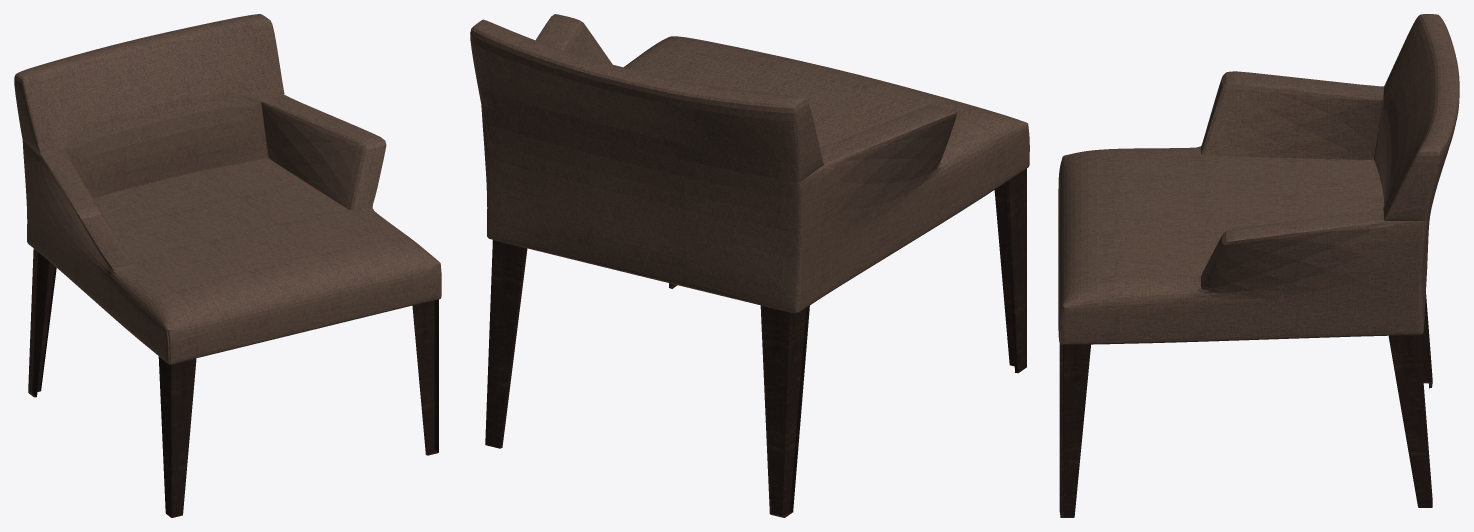
The model's file is sh-bs0-chair.glb.
3 views of the same model, side by side, from view 1: azimuth 30°, elevation 25°; view 2: azimuth 150°, elevation 25°; view 3: azimuth 270°, elevation 25° (orthographic). The views are drawn at different scales.
Visible parts, largest first — view 1: obj_44.001_Untitled.001, obj_47.001_Untitled.004; view 2: obj_44.001_Untitled.001, obj_47.001_Untitled.004; view 3: obj_44.001_Untitled.001, obj_47.001_Untitled.004.
Part boxes in pixels (box(x1,y1,x2,y2)): obj_44.001_Untitled.001: box(14, 14, 441, 364); obj_47.001_Untitled.004: box(28, 248, 438, 517); obj_44.001_Untitled.001: box(470, 14, 1029, 313); obj_47.001_Untitled.004: box(485, 169, 1026, 517); obj_44.001_Untitled.001: box(1058, 14, 1459, 344); obj_47.001_Untitled.004: box(1059, 293, 1432, 517).
Size of the model in its own units: 1 by 1 by 1.
2 materials, 2 textured.
